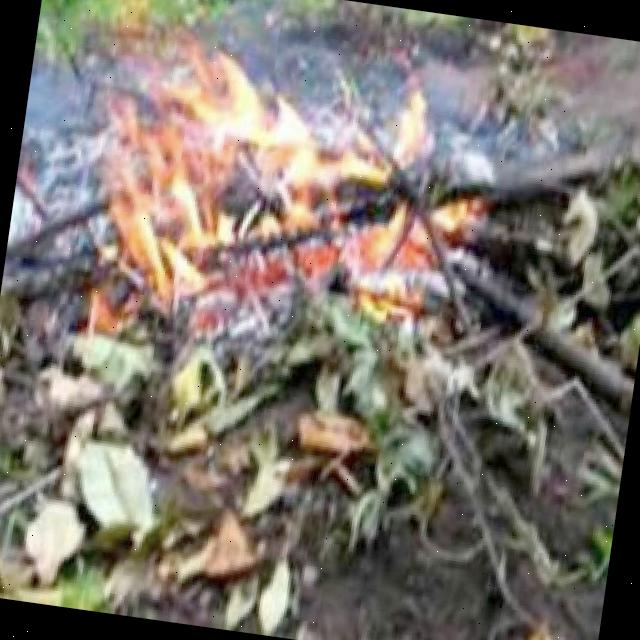fire: (61, 16, 499, 358)
